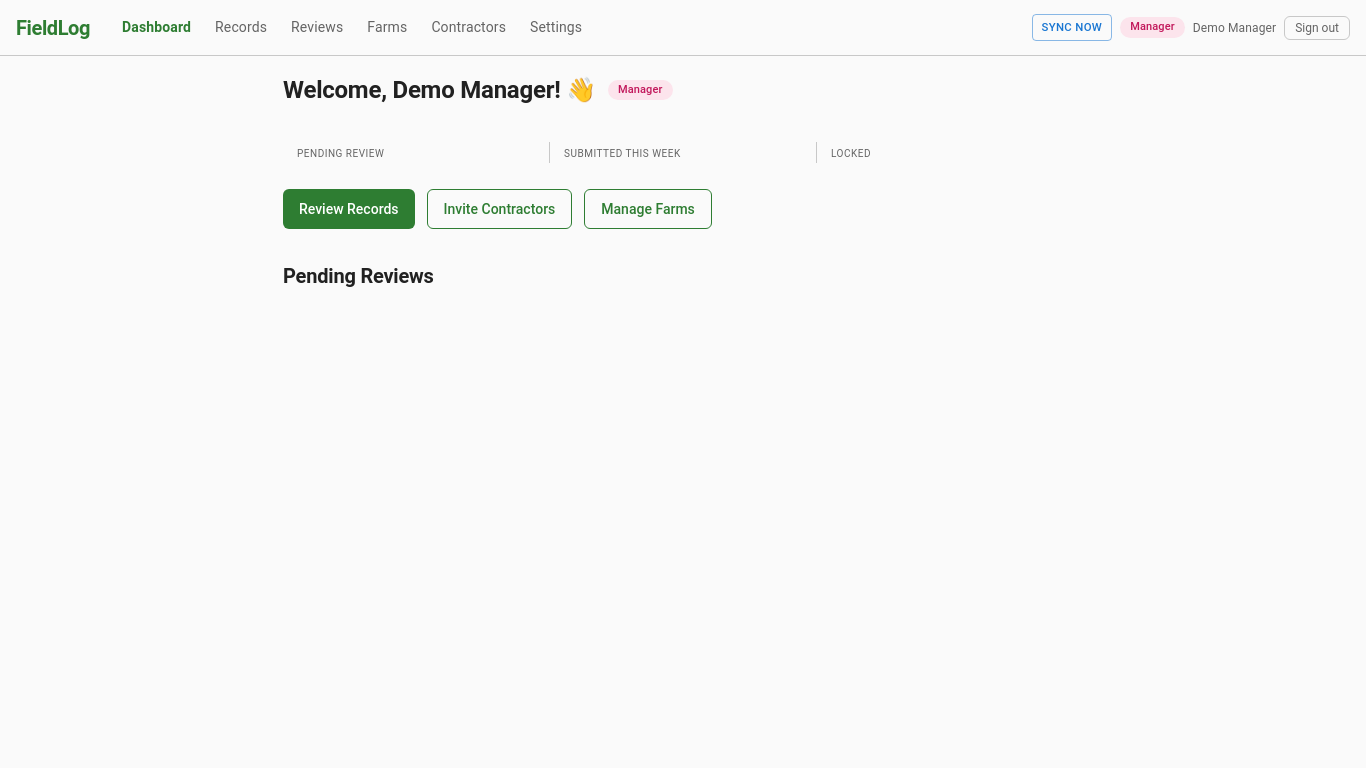
Test case: App auth gate (RequireAuth) › Sign out clears the session and bounces back to /login
This screenshot has width=1366, height=768.
Expected: the heading "Welcome, Demo Manager! 👋" is shown, [283,72,596,108]
What coordinates should you click on to do the following:
click the button with test id "sign-out-button"
I would click on:
 (1317, 28)
Its box is [1284,16,1350,40].
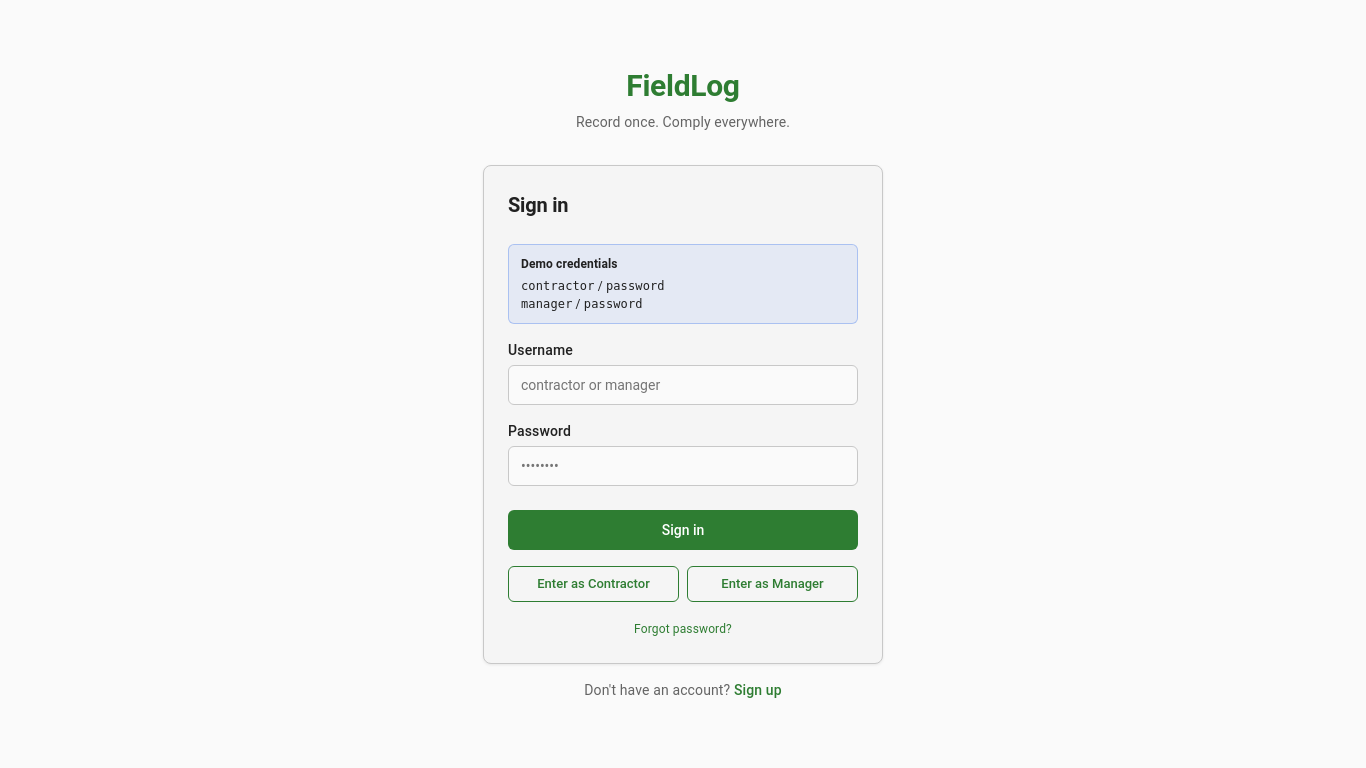
Result: the element with test id "demo-credentials-hint" is shown at [508,244,858,324]
Result: the heading "Welcome," is gone
